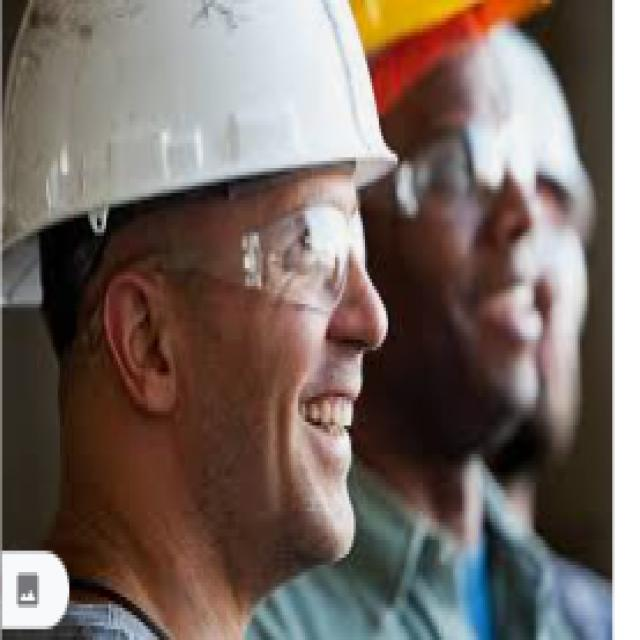glasses: (342, 1, 560, 454), (145, 208, 373, 324), (398, 122, 528, 231)
